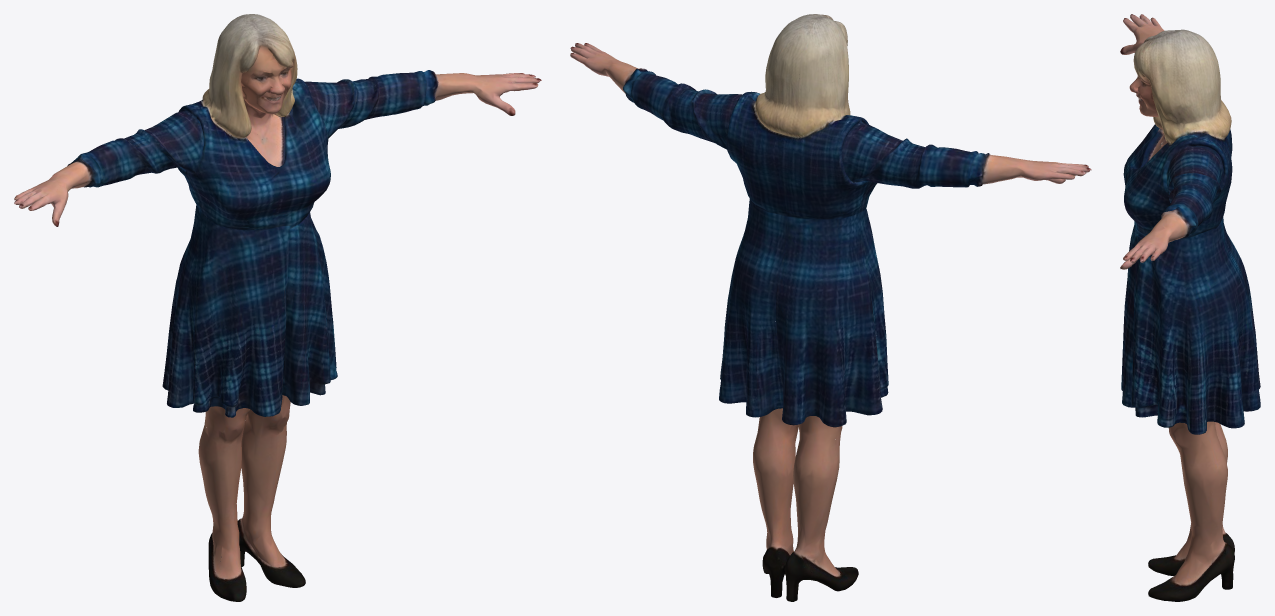
The model's file is julie.glb.
3 views of the same model, side by side, from view 1: azimuth 30°, elevation 25°; view 2: azimuth 150°, elevation 25°; view 3: azimuth 270°, elevation 25° (orthographic). The views are drawn at different scales.
Parts seen in each view (by area): view 1: model; view 2: model; view 3: model.
Boxes of the visible parts, bbox=[...] form: model: bbox=[14, 14, 541, 601]; model: bbox=[570, 14, 1091, 601]; model: bbox=[1120, 14, 1260, 601].
Bounding box in the file's own units: 0.942 × 0.9799 × 0.2266.
1 material, 1 textured.
